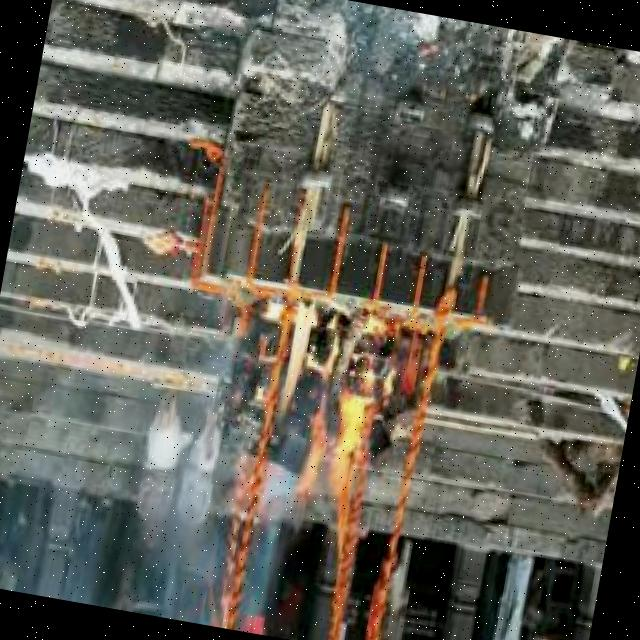fire: (243, 300, 398, 528)
